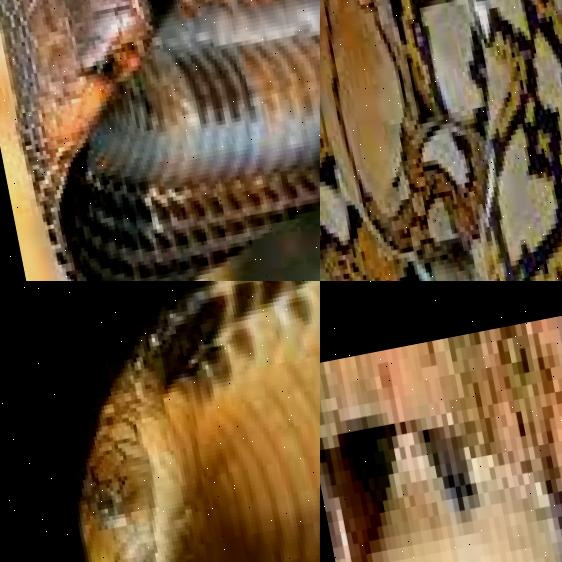snake: (0, 0, 320, 281), (20, 281, 320, 562), (320, 0, 562, 281), (320, 281, 562, 562)
